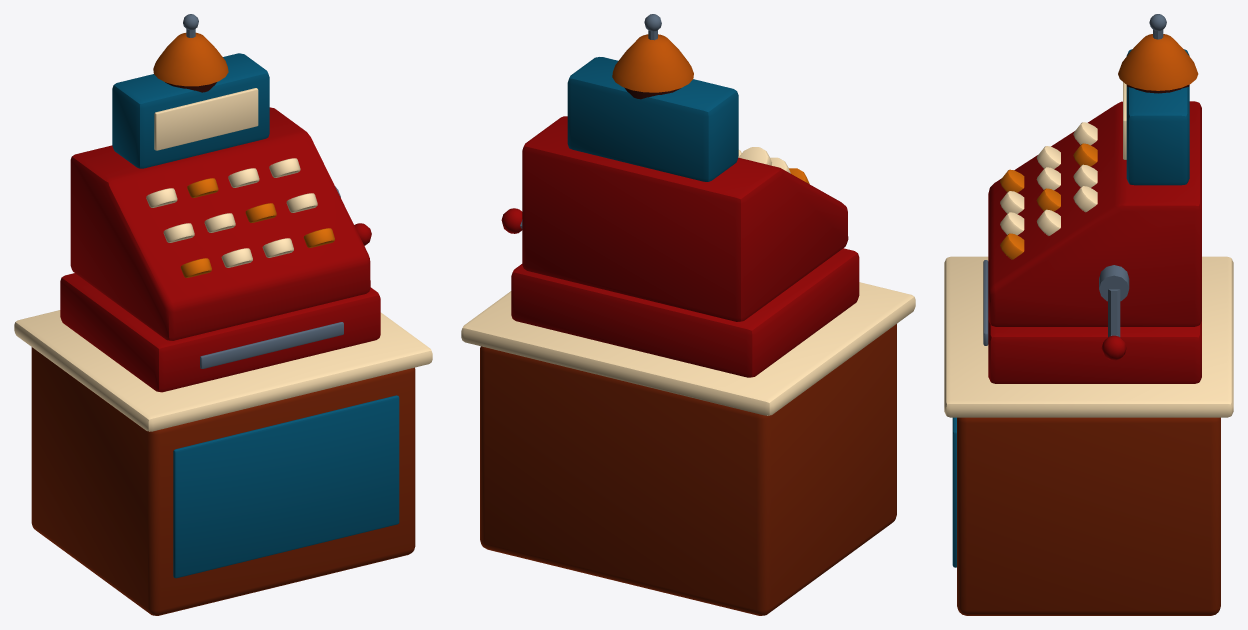
Rendered from CashRegister.obj.
3 views of the same model, side by side, from view 1: azimuth 30°, elevation 25°; view 2: azimuth 150°, elevation 25°; view 3: azimuth 270°, elevation 25° (orthographic). The views are drawn at different scales.
Visible parts, largest first — view 1: CashRegister; view 2: CashRegister; view 3: CashRegister.
Part boxes in pixels (x1=…): CashRegister: x1=14, y1=14, x2=432, y2=615; CashRegister: x1=461, y1=14, x2=915, y2=615; CashRegister: x1=944, y1=14, x2=1233, y2=615.
Size of the model in its own units: 2.95 by 4.7 by 2.3.
